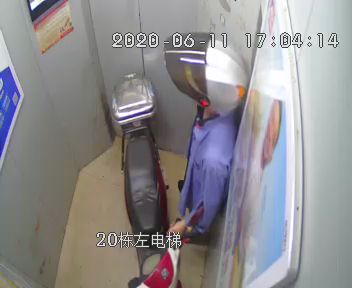Electric-bicycle: (110, 70, 204, 288)
